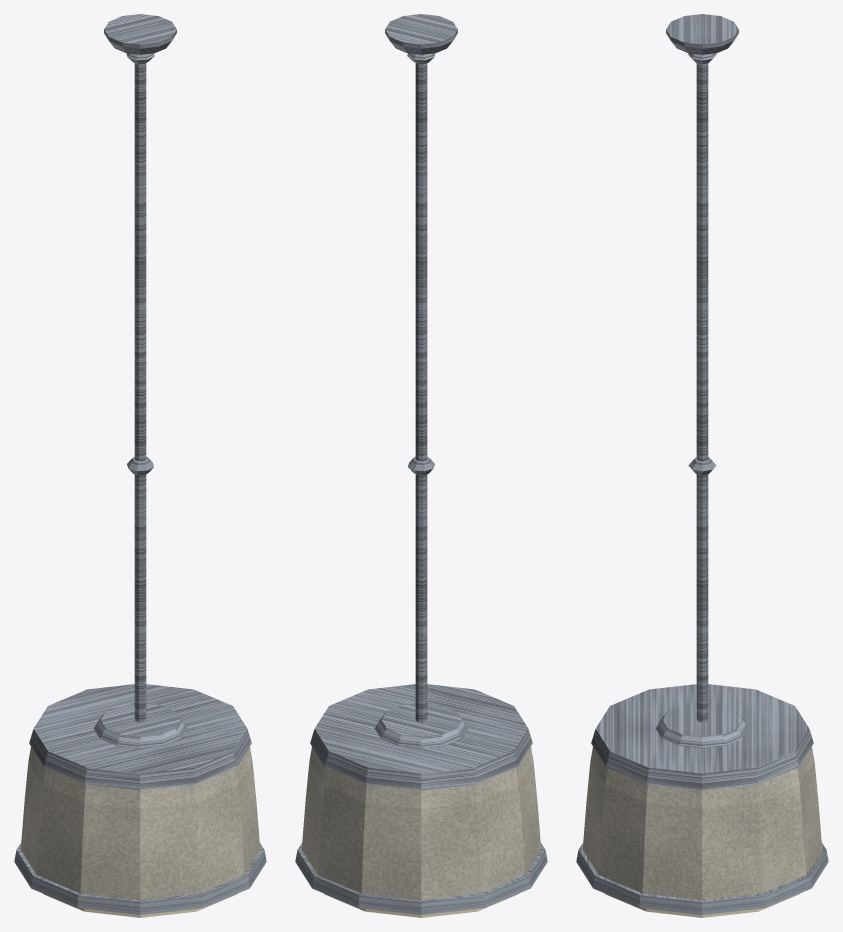
The model's file is hung_lamp.fbx.
3 renders of one model, left to right at view 1: azimuth 30°, elevation 25°; view 2: azimuth 150°, elevation 25°; view 3: azimuth 270°, elevation 25°, orthographic.
Parts seen in each view (by area): view 1: hung_lamp; view 2: hung_lamp; view 3: hung_lamp.
Boxes of the visible parts, x1,y1,x2,y2 form: hung_lamp: (14,14,266,917); hung_lamp: (295,14,547,917); hung_lamp: (576,14,828,917).
Bounding box in the file's own units: 68 × 250 × 68.
